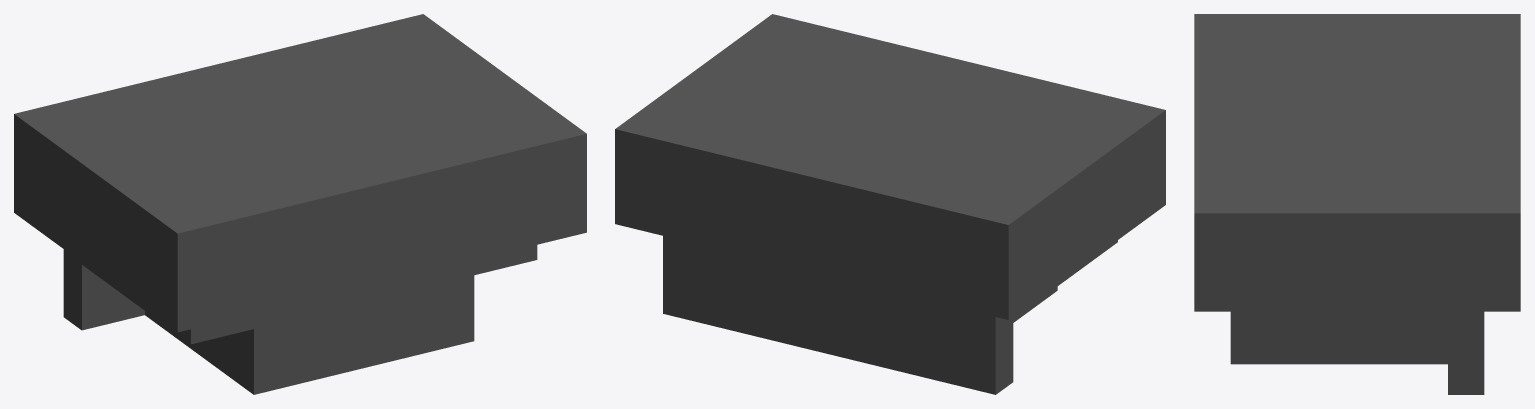
Rendered from PlayerDark-2-Player_waist.obj.
The picture shows the model from 3 angles, left to right: view 1: azimuth 30°, elevation 25°; view 2: azimuth 150°, elevation 25°; view 3: azimuth 270°, elevation 25°; orthographic projection. The views are drawn at different scales.
Parts seen in each view (by area): view 1: Player_waist; view 2: Player_waist; view 3: Player_waist.
Boxes of the visible parts, bbox=[...] form: Player_waist: bbox=[14, 14, 586, 394]; Player_waist: bbox=[615, 14, 1165, 394]; Player_waist: bbox=[1194, 14, 1520, 394].
Bounding box in the file's own units: 1.3 × 0.6 × 0.9.
1 material, 1 textured.
